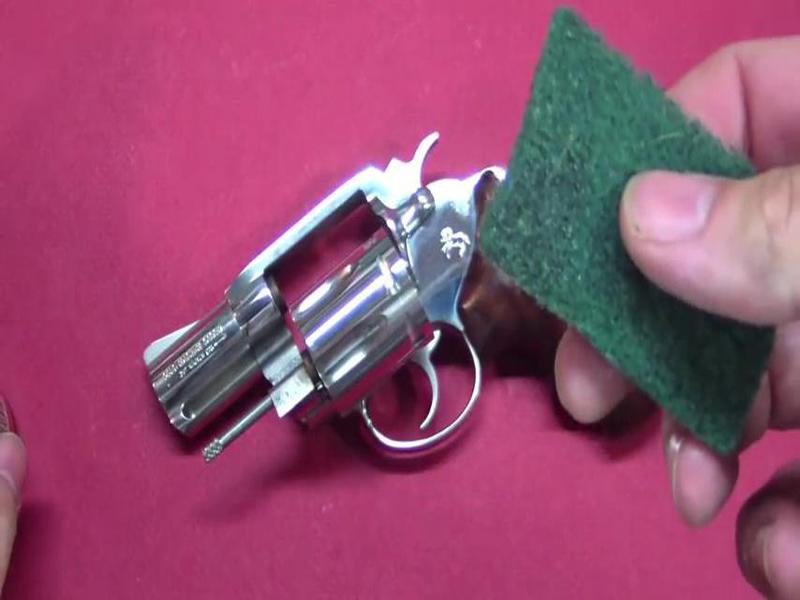Revolver: (140, 105, 587, 505)
